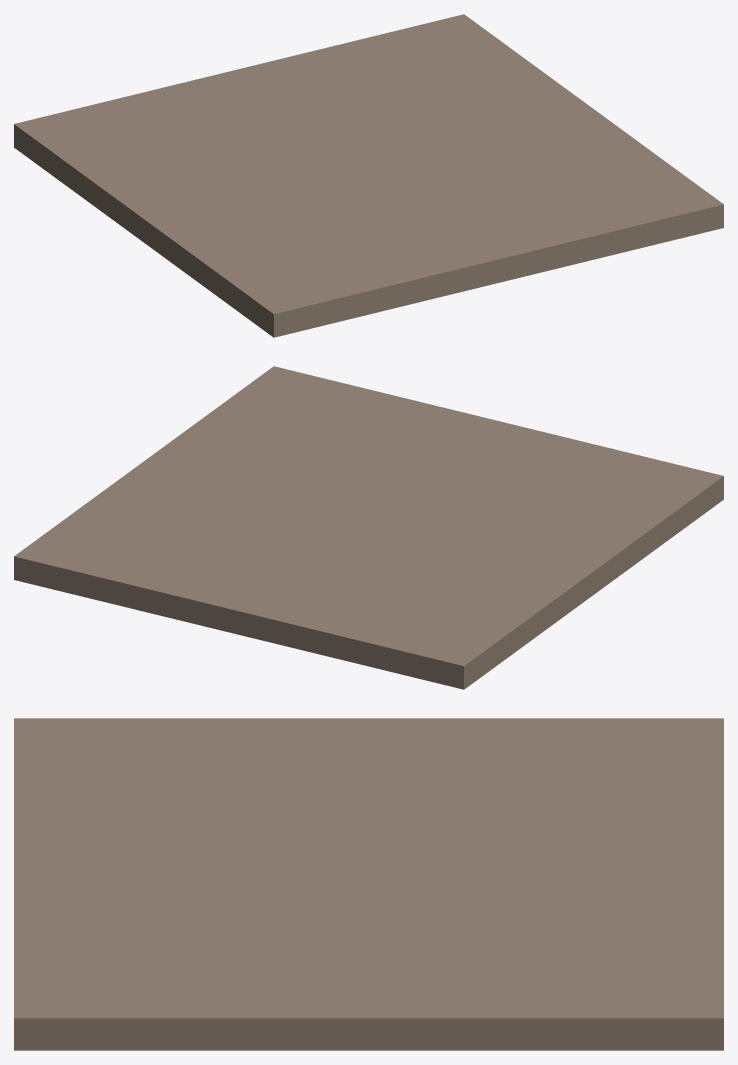
Rendered from MOD_Ceiling.fbx.
3 renders of one model, top to bottom at view 1: azimuth 30°, elevation 25°; view 2: azimuth 150°, elevation 25°; view 3: azimuth 270°, elevation 25°, orthographic. The views are drawn at different scales.
Visible parts, largest first — view 1: Ceiling; view 2: Ceiling; view 3: Ceiling.
Part boxes in pixels (x1=…): Ceiling: x1=14, y1=14, x2=723, y2=337; Ceiling: x1=14, y1=366, x2=723, y2=689; Ceiling: x1=14, y1=718, x2=723, y2=1050.
Bounding box in the file's own units: 200 × 10 × 200.
